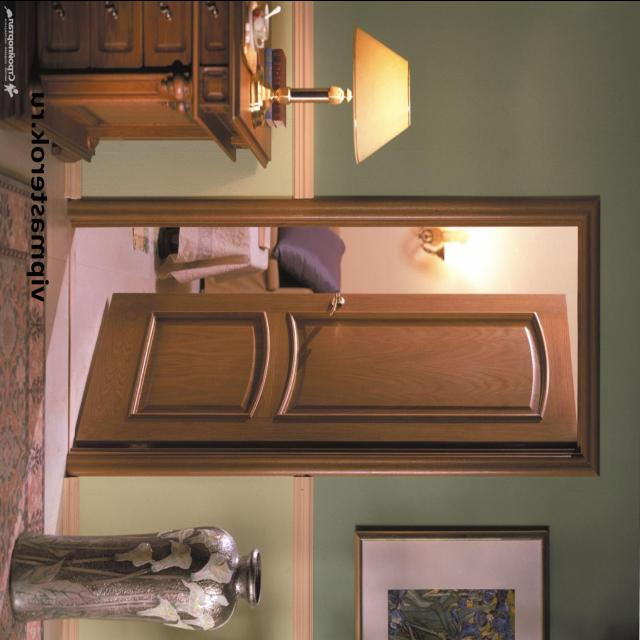open: (69, 205, 601, 472)
